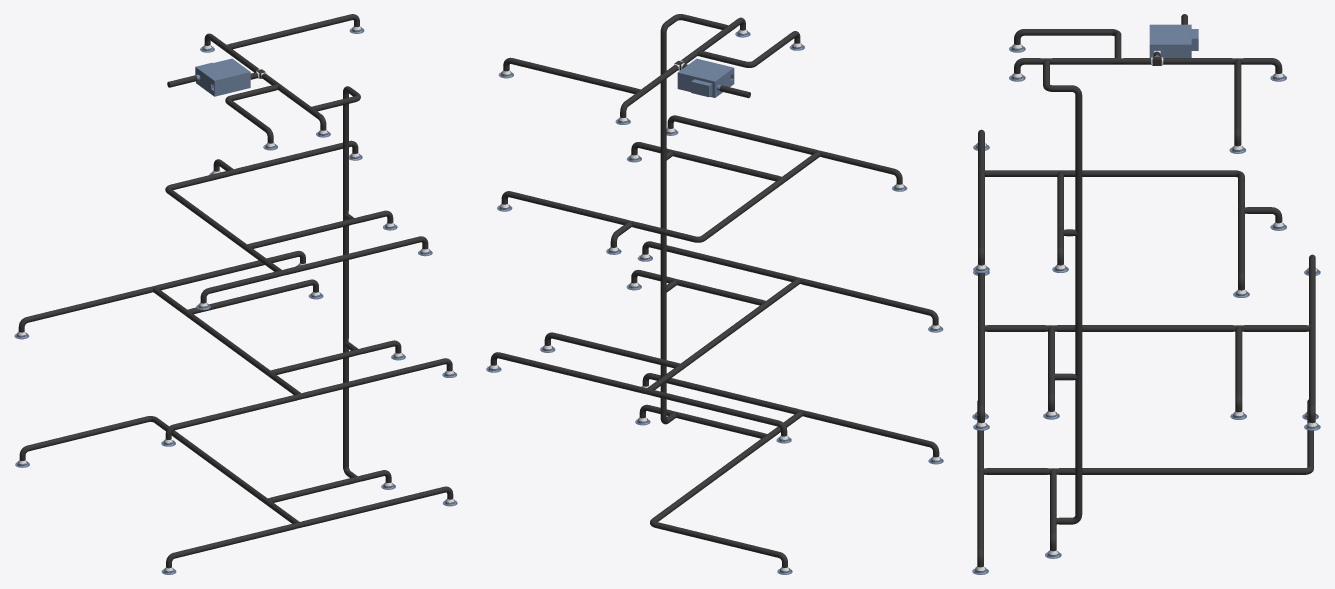
The model's file is HVAC.glb.
The picture shows the model from 3 angles, left to right: view 1: azimuth 30°, elevation 25°; view 2: azimuth 150°, elevation 25°; view 3: azimuth 270°, elevation 25°; orthographic projection. The views are drawn at different scales.
Parts seen in each view (by area): view 1: IfcBuildingElementProxy/ALIMENTADOR DE AIRE DE PODER:Size 2 , IfcFlowSegment/Round Duct:Taps:949656, IfcFlowSegment/Round Duct:Taps:950858, IfcFlowSegment/Round Duct:Taps:952140, IfcFlowSegment/Round Duct:Taps:950869, IfcFlowSegment/Round Duct:Taps:949634, IfcFlowSegment/Round Duct:Taps:950847, IfcFlowSegment/Round Duct:Taps:950838, IfcFlowSegment/Round Duct:Taps:953091, IfcFlowSegment/Round Duct:Taps:949645, IfcFlowSegment/Round Duct:Taps:949635, IfcFlowSegment/Round Duct:Taps:950891 (+8 smaller); view 2: IfcBuildingElementProxy/ALIMENTADOR DE AIRE DE PODER:Size 2 , IfcFlowSegment/Round Duct:Taps:950869, IfcFlowSegment/Round Duct:Taps:950858, IfcFlowSegment/Round Duct:Taps:952140, IfcFlowSegment/Round Duct:Taps:949656, IfcFlowSegment/Round Duct:Taps:949634, IfcFlowSegment/Round Duct:Taps:950838, IfcFlowSegment/Round Duct:Taps:950847, IfcFlowSegment/Round Duct:Taps:953091, IfcFlowSegment/Round Duct:Taps:949645, IfcFlowSegment/Round Duct:Taps:950891, IfcFlowSegment/Round Duct:Taps:949635 (+9 smaller); view 3: IfcFlowSegment/Round Duct:Taps:949634, IfcBuildingElementProxy/ALIMENTADOR DE AIRE DE PODER:Size 2 , IfcFlowSegment/Round Duct:Taps:950911, IfcFlowSegment/Round Duct:Taps:952095, IfcFlowSegment/Round Duct:Taps:955664, IfcFlowSegment/Round Duct:Taps:955574, IfcFlowSegment/Round Duct:Taps:956914, IfcFlowSegment/Round Duct:Taps:953123, IfcFlowSegment/Round Duct:Taps:949656, IfcFlowSegment/Round Duct:Taps:950858, IfcFlowSegment/Round Duct:Taps:950869, IfcFlowSegment/Round Duct:Taps:953091 (+5 smaller).
Boxes of the visible parts, x1,y1,x2,y2 form: IfcBuildingElementProxy/ALIMENTADOR DE AIRE DE PODER:Size 2 : (195,58,250,96); IfcFlowSegment/Round Duct:Taps:949656: (303,486,446,526); IfcFlowSegment/Round Duct:Taps:950858: (304,358,445,398); IfcFlowSegment/Round Duct:Taps:952140: (285,236,421,274); IfcFlowSegment/Round Duct:Taps:950869: (157,251,299,290); IfcFlowSegment/Round Duct:Taps:949634: (153,417,265,501); IfcFlowSegment/Round Duct:Taps:950847: (173,394,297,429); IfcFlowSegment/Round Duct:Taps:950838: (27,287,150,322); IfcFlowSegment/Round Duct:Taps:953091: (230,14,353,49); IfcFlowSegment/Round Duct:Taps:949645: (174,523,296,558); IfcFlowSegment/Round Duct:Taps:949635: (27,416,148,451); IfcFlowSegment/Round Duct:Taps:950891: (191,279,312,313); IfcBuildingElementProxy/ALIMENTADOR DE AIRE DE PODER:Size 2 : (677,58,734,97); IfcFlowSegment/Round Duct:Taps:950869: (497,352,643,393); IfcFlowSegment/Round Duct:Taps:950858: (649,241,794,281); IfcFlowSegment/Round Duct:Taps:952140: (674,115,815,154); IfcFlowSegment/Round Duct:Taps:949656: (649,373,797,414); IfcFlowSegment/Round Duct:Taps:949634: (652,436,768,521); IfcFlowSegment/Round Duct:Taps:950838: (650,389,778,426); IfcFlowSegment/Round Duct:Taps:950847: (802,278,930,315); IfcFlowSegment/Round Duct:Taps:953091: (510,58,637,93); IfcFlowSegment/Round Duct:Taps:949645: (804,411,930,447); IfcFlowSegment/Round Duct:Taps:950891: (551,332,677,368); IfcFlowSegment/Round Duct:Taps:949635: (654,522,779,557); IfcFlowSegment/Round Duct:Taps:949634: (1059,468,1303,474); IfcBuildingElementProxy/ALIMENTADOR DE AIRE DE PODER:Size 2 : (1149,24,1198,57); IfcFlowSegment/Round Duct:Taps:950911: (1057,325,1232,331); IfcFlowSegment/Round Duct:Taps:952095: (1066,170,1234,176); IfcFlowSegment/Round Duct:Taps:955664: (1075,238,1082,373); IfcFlowSegment/Round Duct:Taps:955574: (1075,382,1082,516); IfcFlowSegment/Round Duct:Taps:956914: (1075,95,1082,228); IfcFlowSegment/Round Duct:Taps:953123: (1024,29,1111,35); IfcFlowSegment/Round Duct:Taps:949656: (977,471,983,550); IfcFlowSegment/Round Duct:Taps:950858: (978,328,984,406); IfcFlowSegment/Round Duct:Taps:950869: (1309,328,1315,406); IfcFlowSegment/Round Duct:Taps:953091: (1234,60,1241,130).
Size of the model in its own units: 9.02 by 11.18 by 7.67.
